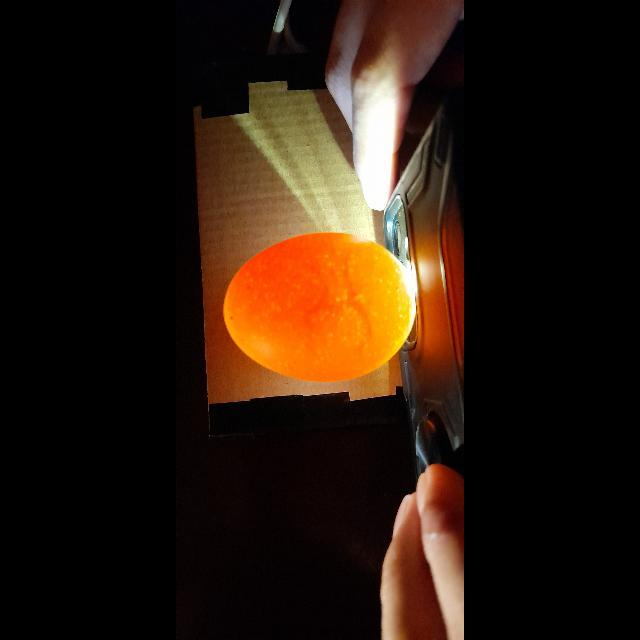Fertile: (218, 227, 408, 395)
